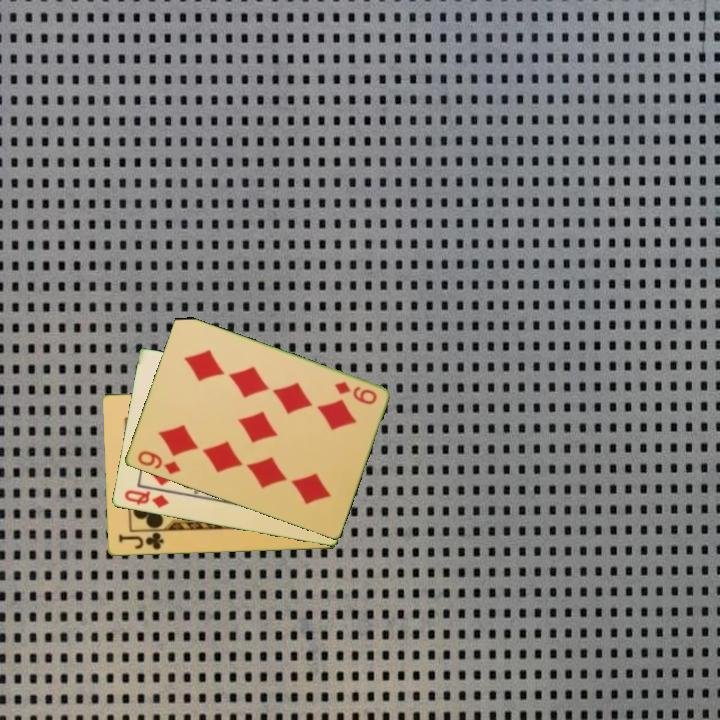9d: (134, 447, 183, 477), (331, 378, 379, 407)
Jc: (115, 529, 166, 553)
Qd: (121, 486, 171, 511)
